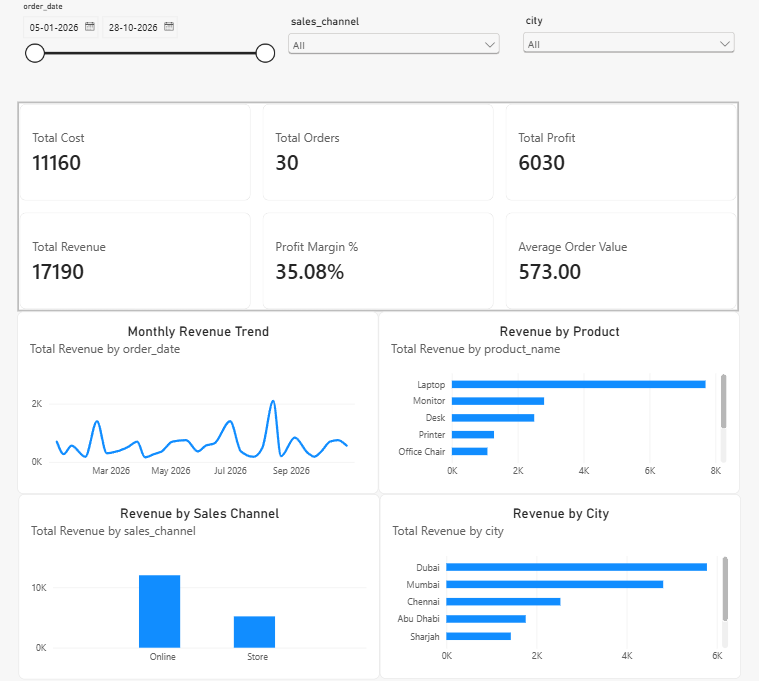

What the dashboard file says about the page in this screenshot:
{"tool":"powerbi","page":{"name":"Page 1","canvas":[1280,1800],"ordinal":0},"visuals":[{"type":"cardVisual","fields":{"Data":["Orders.Total Cost","Orders.Total Orders","Orders.Total Profit","Orders.Total Revenue","Orders.Profit Margin %","Orders.Average Order Value"]},"box":[168.6,150,962.2,280],"z":0},{"type":"lineChart","title":"Monthly Revenue Trend","fields":{"Category":["Orders.order_date"],"Y":["Orders.Total Revenue"]},"box":[168.6,430,481.4,242.9],"z":1000},{"type":"clusteredBarChart","title":"Revenue by Product","fields":{"Category":["Products.product_name"],"Y":["Orders.Total Revenue"]},"box":[650,430,481.4,242.9],"z":1001},{"type":"clusteredColumnChart","title":"Revenue by Sales Channel","fields":{"Category":["Orders.sales_channel"],"Y":["Orders.Total Revenue"]},"box":[170,672.9,481.4,247.1],"z":1002},{"type":"clusteredBarChart","title":"Revenue by City","fields":{"Category":["Customers.city"],"Y":["Orders.Total Revenue"]},"box":[651.7,673.3,481.7,246.7],"z":1003},{"type":"slicer","fields":{"Values":["Orders.order_date"]},"box":[168.6,17.1,346.7,95.6],"z":1004},{"type":"slicer","fields":{"Values":["Orders.sales_channel"]},"box":[525.7,35.7,291.7,93.3],"z":1005},{"type":"slicer","fields":{"Values":["Customers.city"]},"box":[838.6,32.9,291.7,95],"z":1006}]}

Visuals, with their boxes on the page's 1280x1800 design canvas (x1, y1, x2, y2). These are canvas units, not pixel positions in the 759x681 screenshot, which may show the page scaled, cropped or inside an application window:
cardVisual - Orders.Total Cost x Orders.Total Orders: [169,150,1131,430]
"Monthly Revenue Trend" lineChart: [169,430,650,673]
"Revenue by Product" clusteredBarChart: [650,430,1131,673]
"Revenue by Sales Channel" clusteredColumnChart: [170,673,651,920]
"Revenue by City" clusteredBarChart: [652,673,1133,920]
slicer - Orders.order_date: [169,17,515,113]
slicer - Orders.sales_channel: [526,36,817,129]
slicer - Customers.city: [839,33,1130,128]
